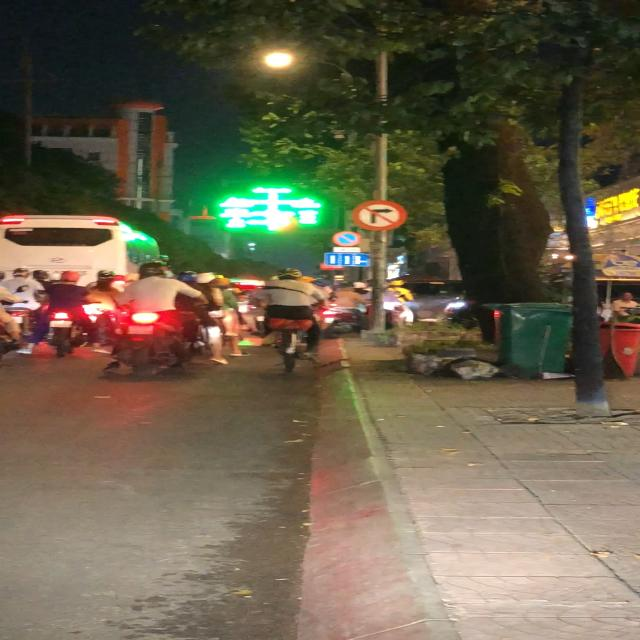Bien bao cam do xe: (330, 229, 362, 247)
Bien bao cam re phai: (349, 199, 409, 232)
